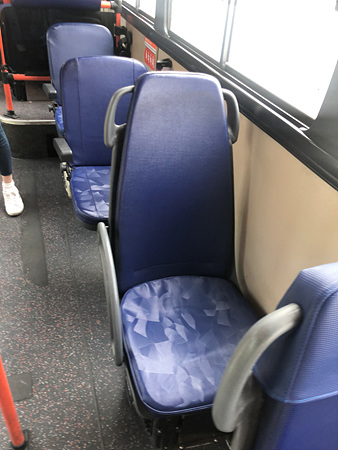seat: (101, 68, 249, 413)
